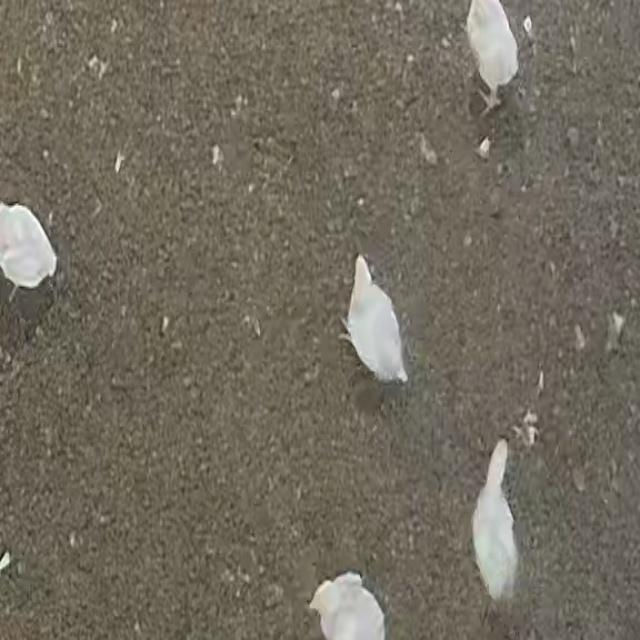chicken: (337, 249, 414, 392), (467, 432, 525, 603), (461, 0, 523, 112)
